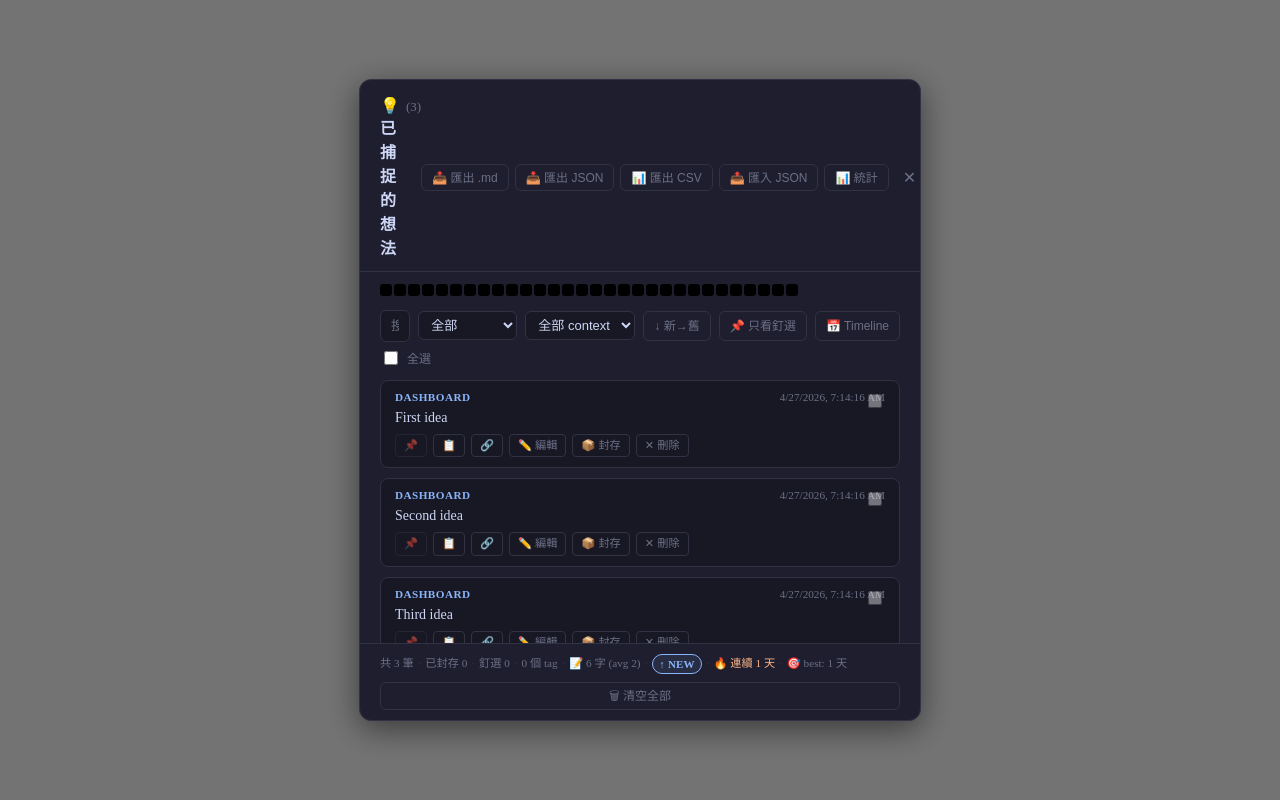
Scenario: QuickCaptureList — bulk select › selecting a checkbox shows the bulk action bar
The image size is (1280, 800).
Click the checkbox named "選取：First idea".
click(875, 400)  # box [868,394,882,408]
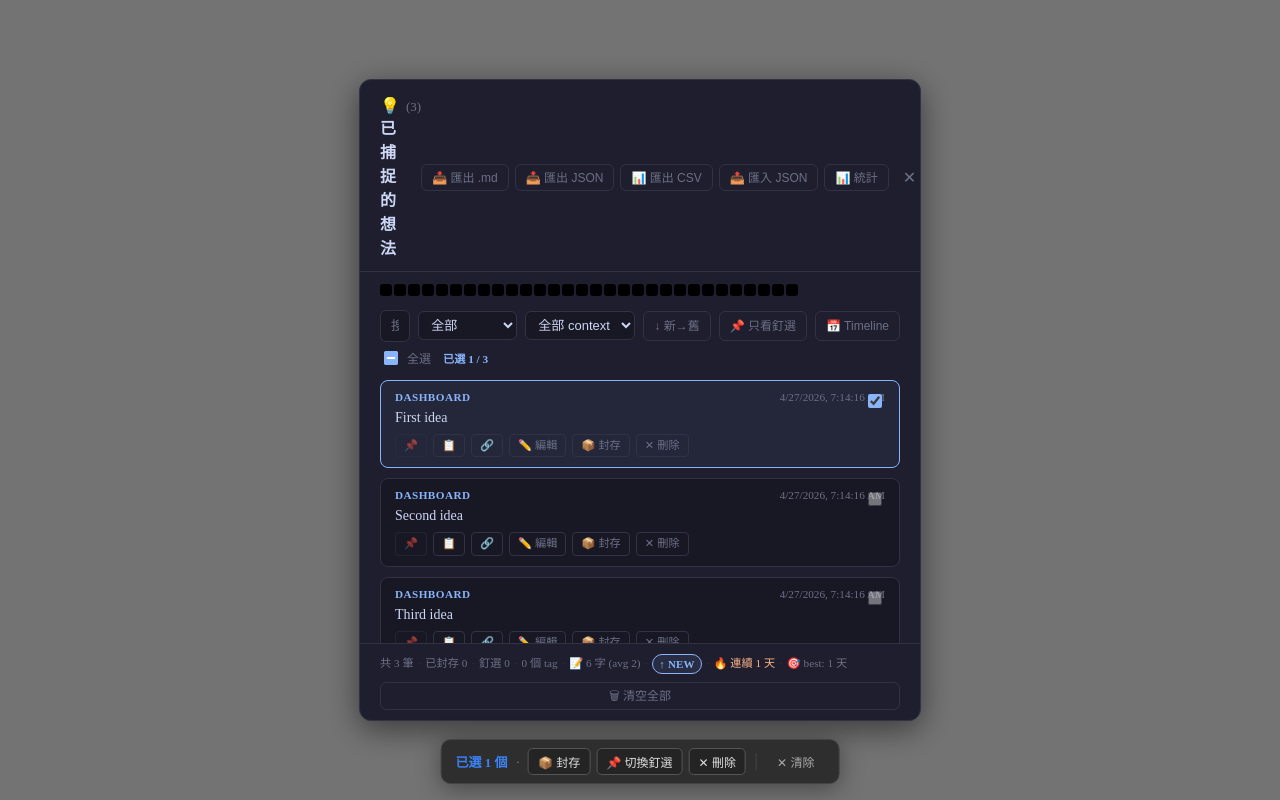
Result: the element with test id "capture-bulk-action-bar" is shown at [441,739,839,784]
